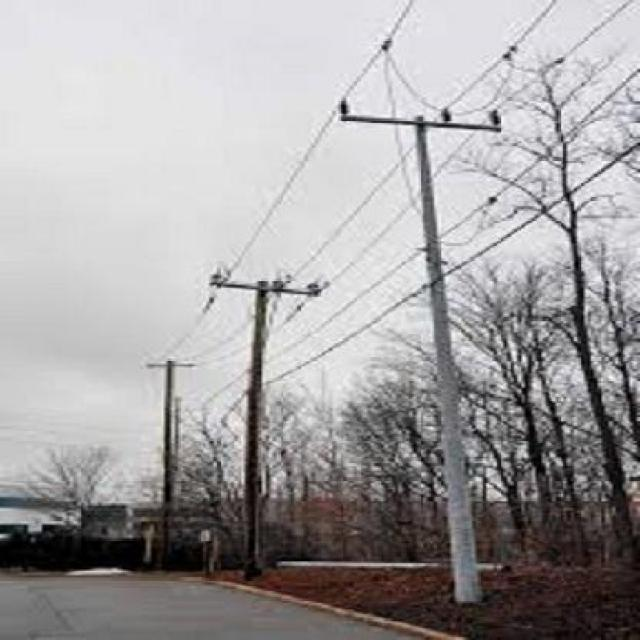pole: (334, 83, 492, 603), (211, 251, 317, 578), (141, 351, 194, 571)
